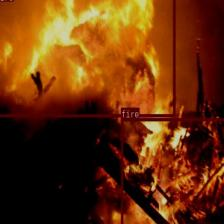fire: (0, 0, 175, 116), (120, 117, 223, 224)
